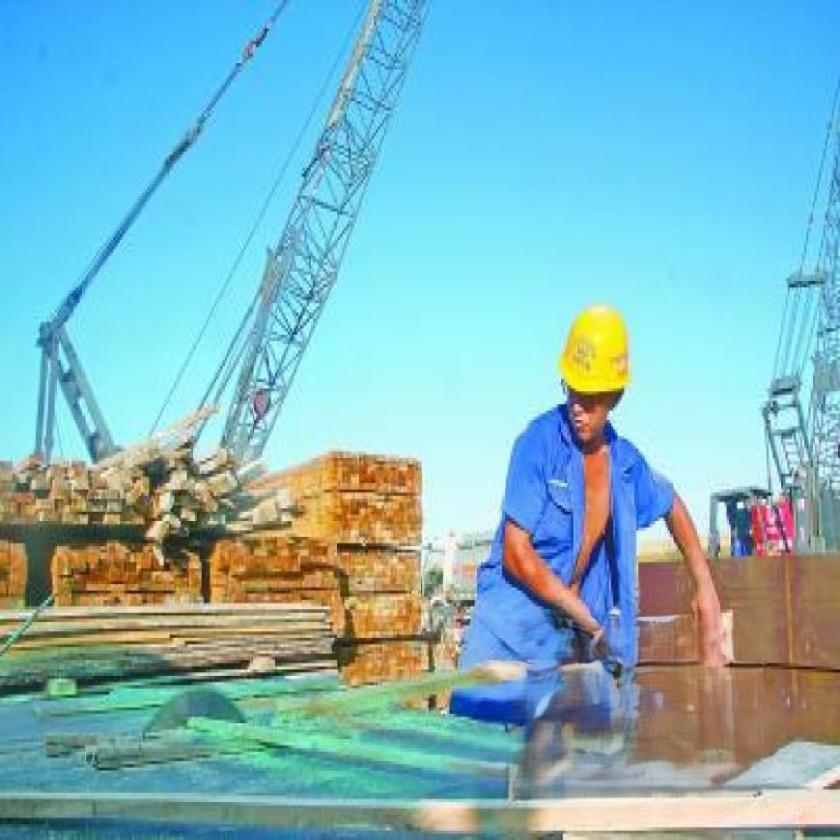Con_casco: (550, 296, 642, 448)
